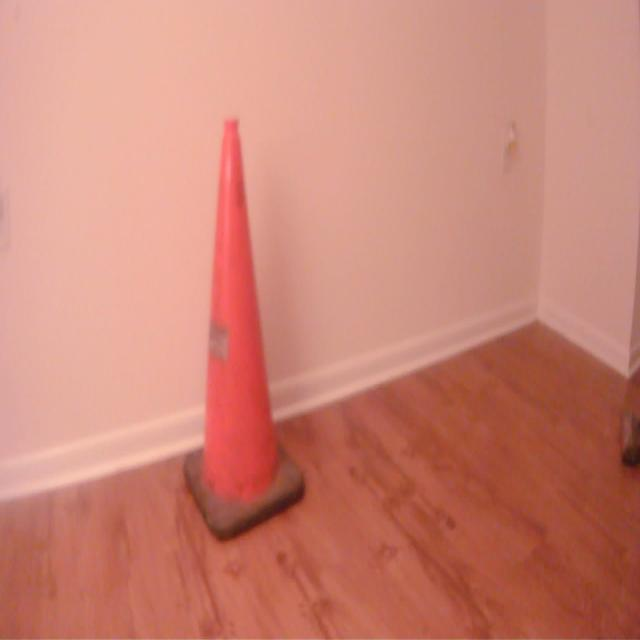traffic cone: (179, 111, 313, 551)
